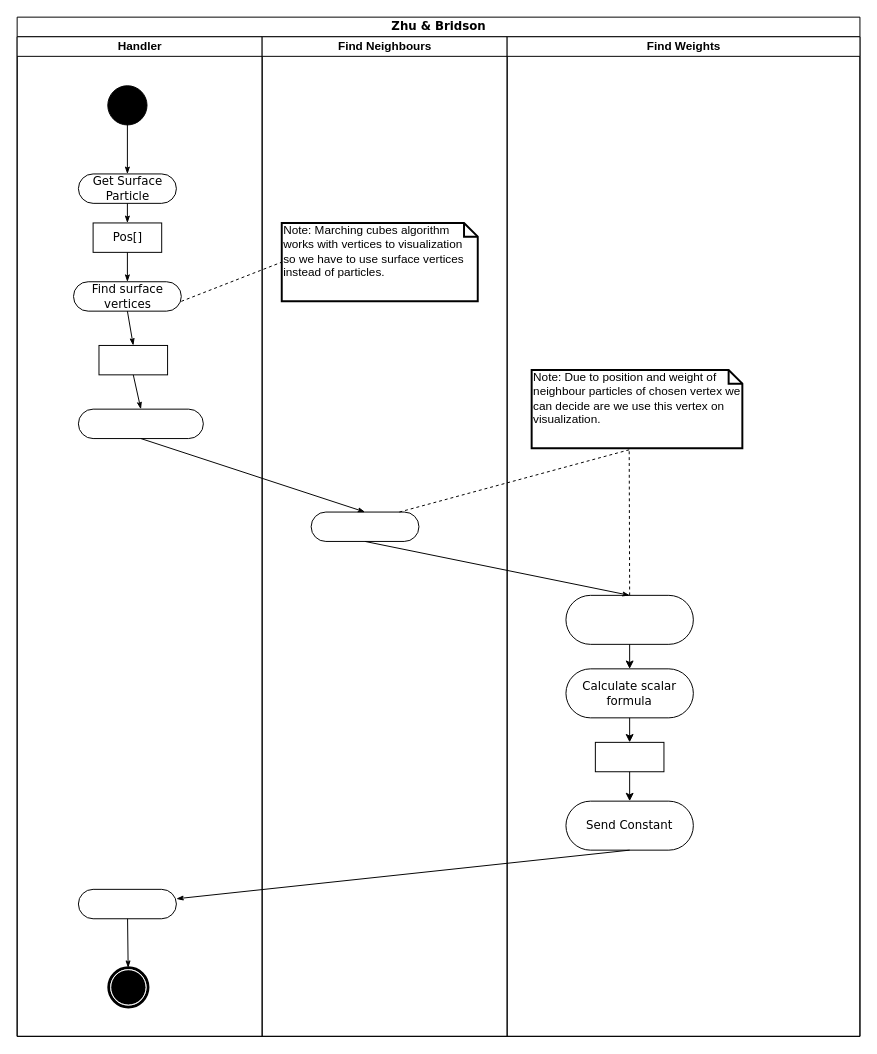
Some shapes in this 877 by 1054 pixel diagram are drawn without their labels. Each missing label, with the centre of its shape:
"Calculate weight of neighbour particles" belongs at (x=629, y=619).
"Find neighbours in a range" belongs at (x=364, y=526).
"Float" belongs at (x=629, y=756).
"Pass Value to relevant place" belongs at (x=126, y=903).
"Send vertices" belongs at (x=140, y=423).
"Vertices[]" belongs at (x=133, y=359).
